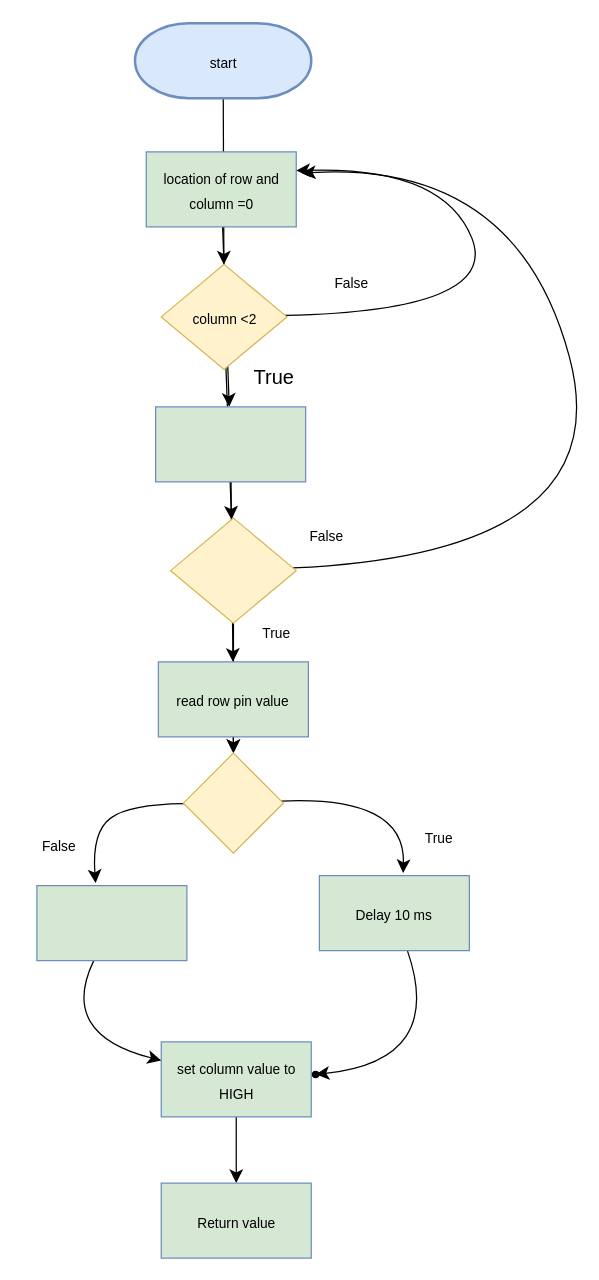
This 599x1280 diagram has some shape labels left out. The shapes that lost their labels are listed below. From the top down, each one's centre as x and y in pixels, then its label:
[230,444]: set column to LOW
[232,570]: row <1
[232,802]: value is LOW
[111,922]: increment row counter
